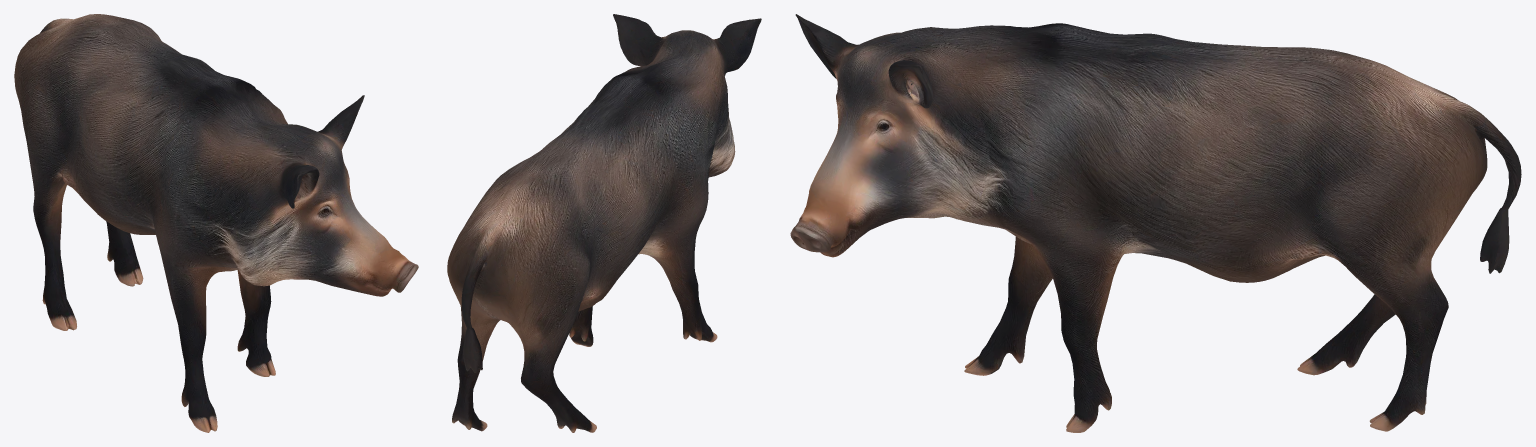
The model's file is animal-wildzwijn-boar.glb.
3 renders of one model, left to right at view 1: azimuth 30°, elevation 25°; view 2: azimuth 150°, elevation 25°; view 3: azimuth 270°, elevation 25°, orthographic. The views are drawn at different scales.
Bounding box in the file's own units: 0.5591 × 1.1 × 1.91.
1 material, 1 textured.
